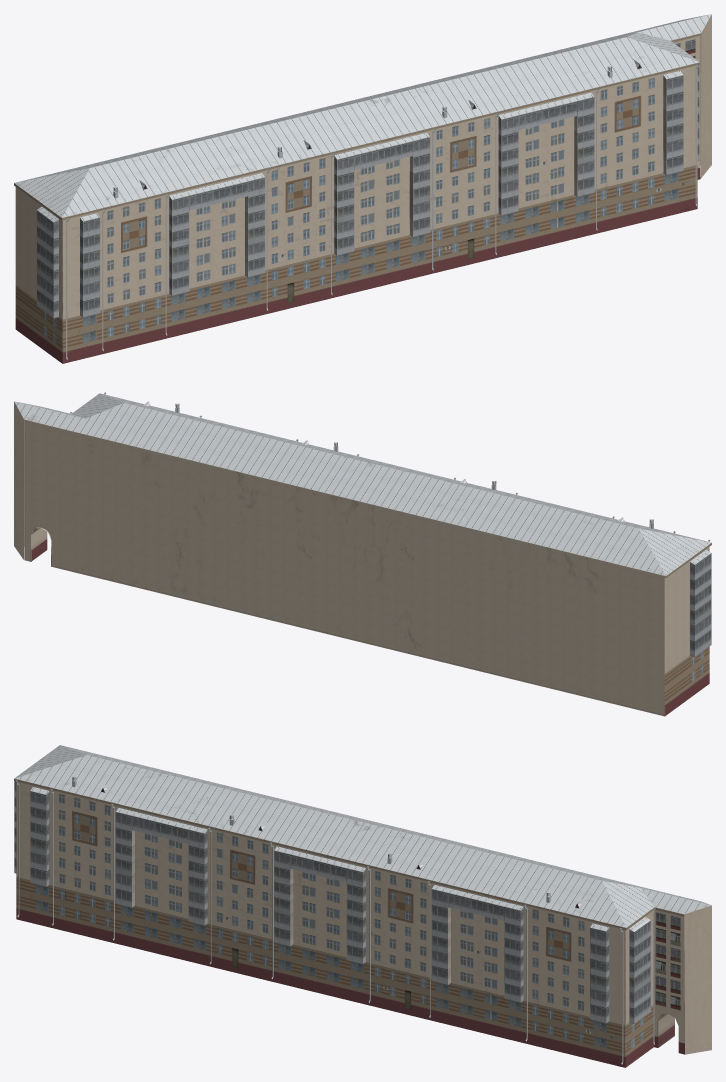
File: buildingNew_12.fbx
3 renders of one model, top to bottom at view 1: azimuth 30°, elevation 25°; view 2: azimuth 150°, elevation 25°; view 3: azimuth 330°, elevation 25°, orthographic. The views are drawn at different scales.
Parts seen in each view (by area): view 1: polySurface1; view 2: polySurface1; view 3: polySurface1.
Part boxes in pixels (x1,y1,x2,y2): polySurface1: [14, 14, 711, 363]; polySurface1: [14, 392, 711, 716]; polySurface1: [14, 745, 711, 1067].
Bounding box in the file's own units: 122 × 28 × 15.36.
